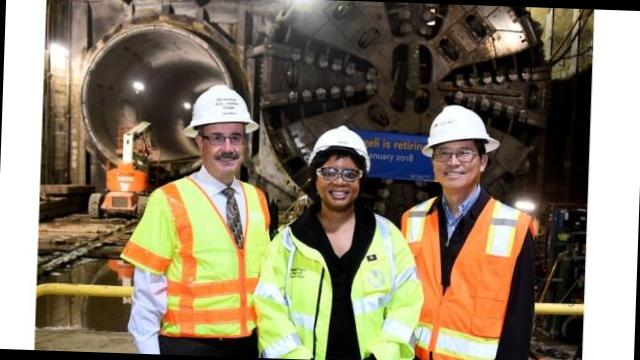Vest: (140, 164, 266, 339), (402, 202, 536, 360)
